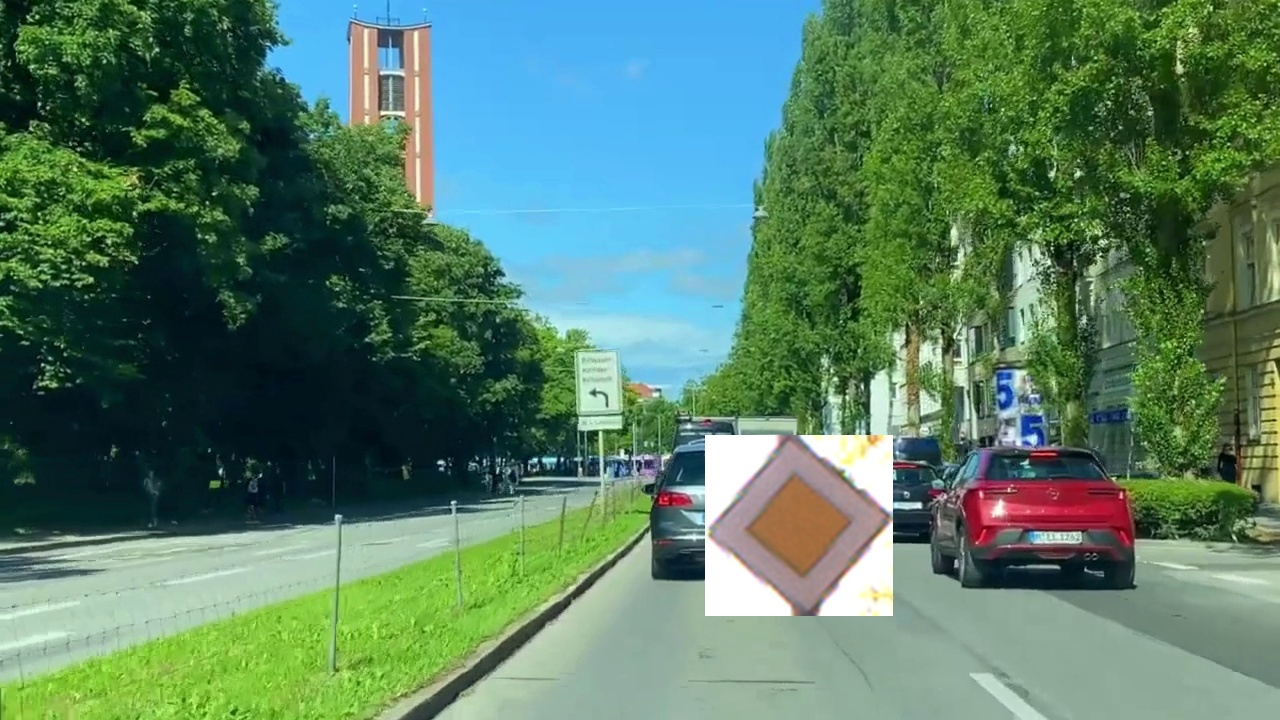Priority road: (705, 435, 893, 616)
